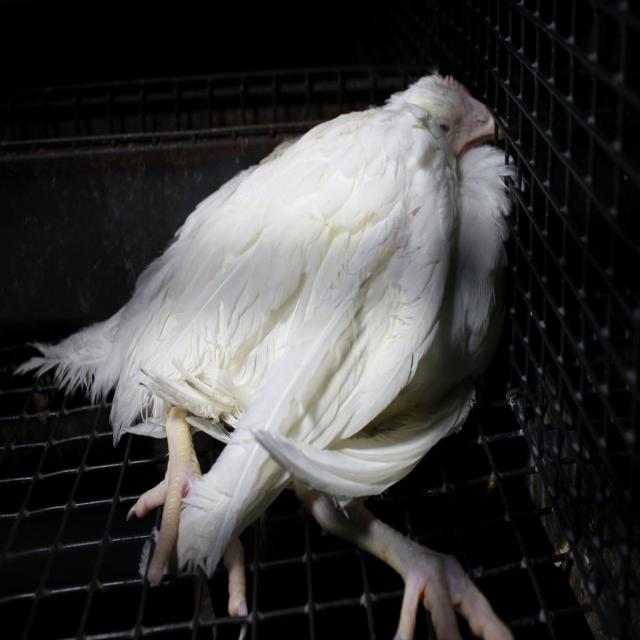Chicken: (18, 70, 513, 640)
